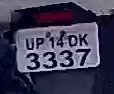1: (47, 34, 56, 50)
3: (23, 51, 42, 71), (42, 51, 58, 71), (58, 49, 74, 69)
4: (56, 37, 65, 48)
7: (75, 46, 92, 67)
D: (67, 33, 78, 47)
K: (76, 31, 90, 47)
P: (34, 35, 44, 51)
U: (21, 37, 35, 51)
